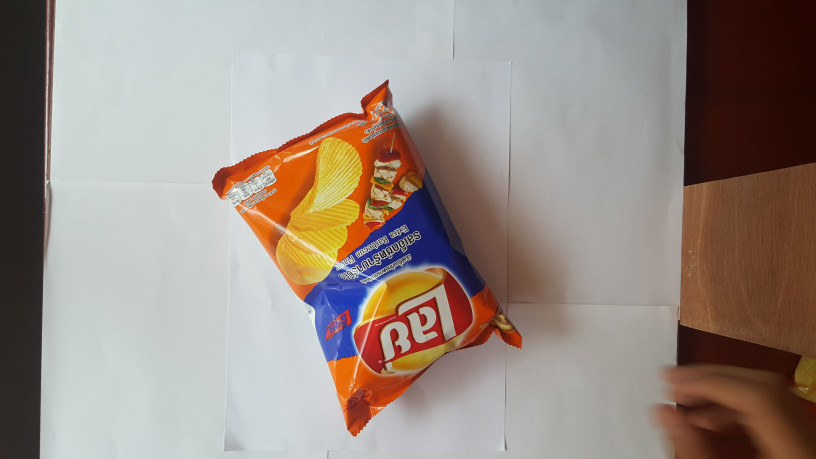lays-bbq: (197, 80, 529, 440)
